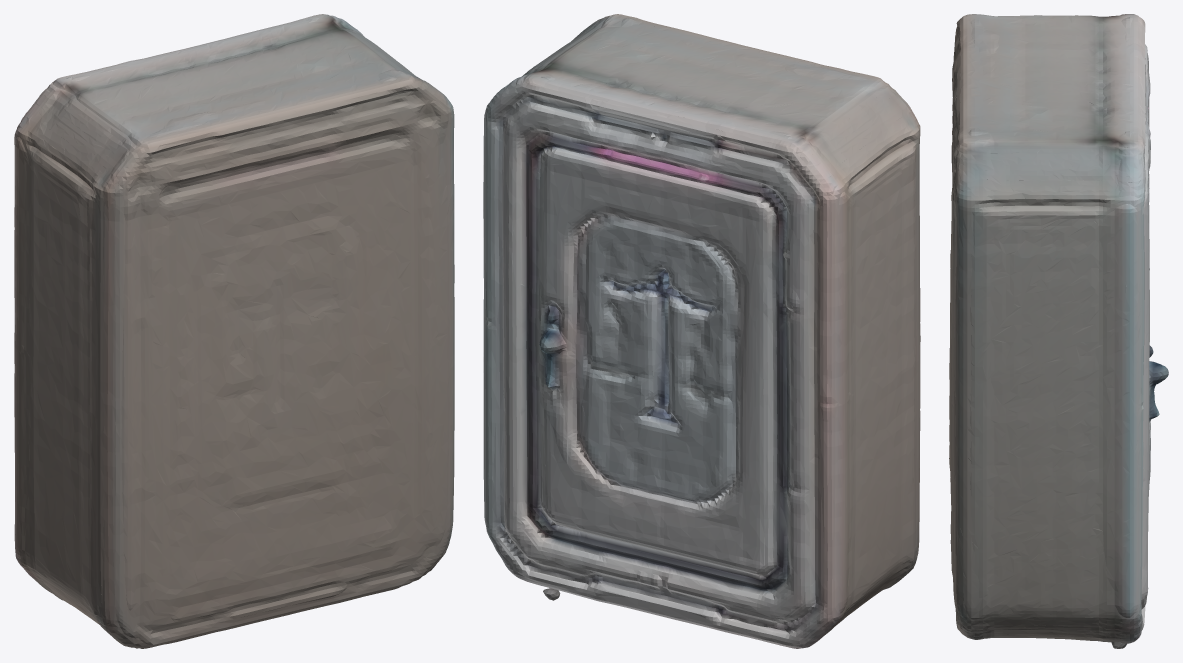
File: room-11-fintech-vault.glb
3 renders of one model, left to right at view 1: azimuth 30°, elevation 25°; view 2: azimuth 150°, elevation 25°; view 3: azimuth 270°, elevation 25°, orthographic. The views are drawn at different scales.
Visible parts, largest first — view 1: world; view 2: world; view 3: world.
Boxes of the visible parts, <box> form: world: <box>14,14,454,648</box>; world: <box>483,14,920,648</box>; world: <box>949,14,1168,648</box>.
Bounding box in the file's own units: 0.7149 × 1 × 0.3867.
